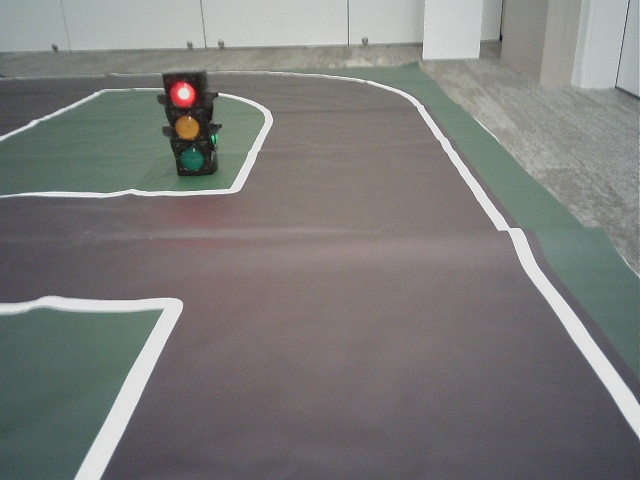red: (165, 74, 207, 171)
